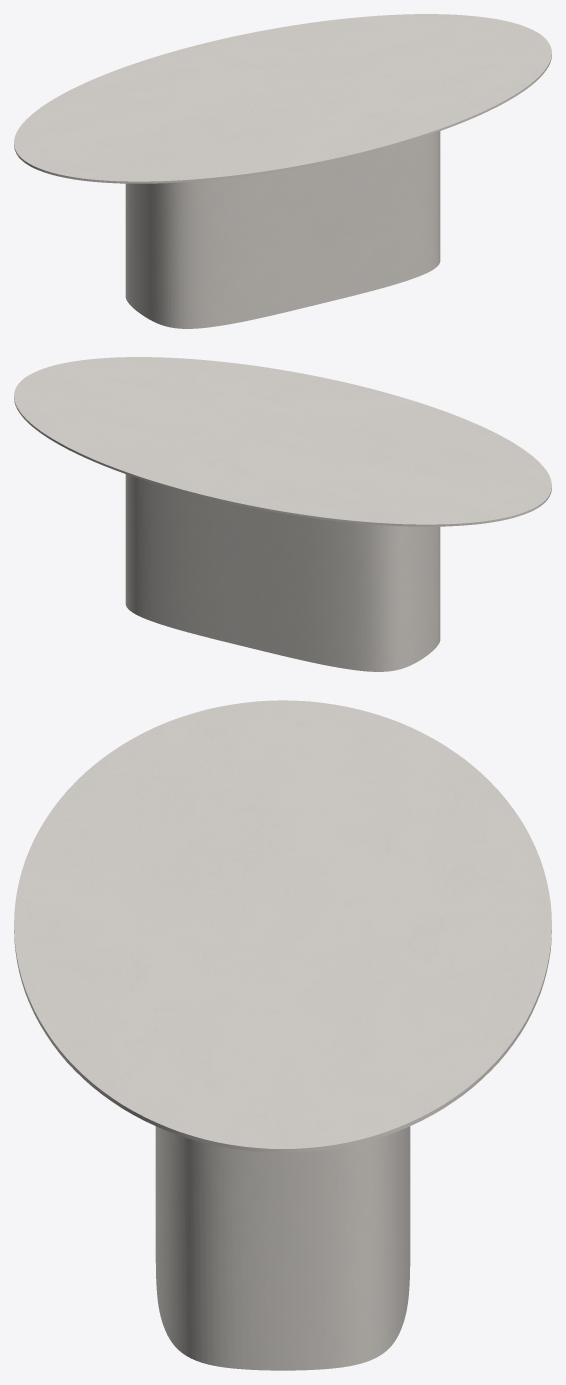
Rendered from purewhite_ellips_facet_fixed.glb.
3 renders of one model, top to bottom at view 1: azimuth 30°, elevation 25°; view 2: azimuth 150°, elevation 25°; view 3: azimuth 270°, elevation 25°, orthographic. The views are drawn at different scales.
Visible parts, largest first — view 1: facet_ellips, fixed; view 2: facet_ellips, fixed; view 3: facet_ellips, fixed.
Boxes of the visible parts, <box> form: facet_ellips: <box>14,14,551,183</box>; fixed: <box>125,131,440,328</box>; facet_ellips: <box>14,357,551,526</box>; fixed: <box>125,474,440,671</box>; facet_ellips: <box>14,700,551,1152</box>; fixed: <box>155,1126,410,1370</box>.
Bounding box in the file's own units: 7.5 × 2.5 × 3.8.
1 material, 1 textured.
